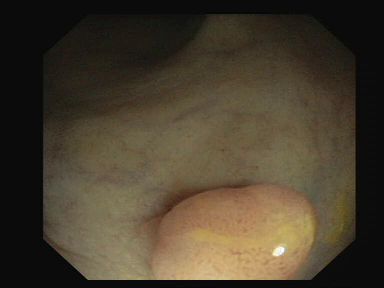polyp: (119, 168, 320, 281)
